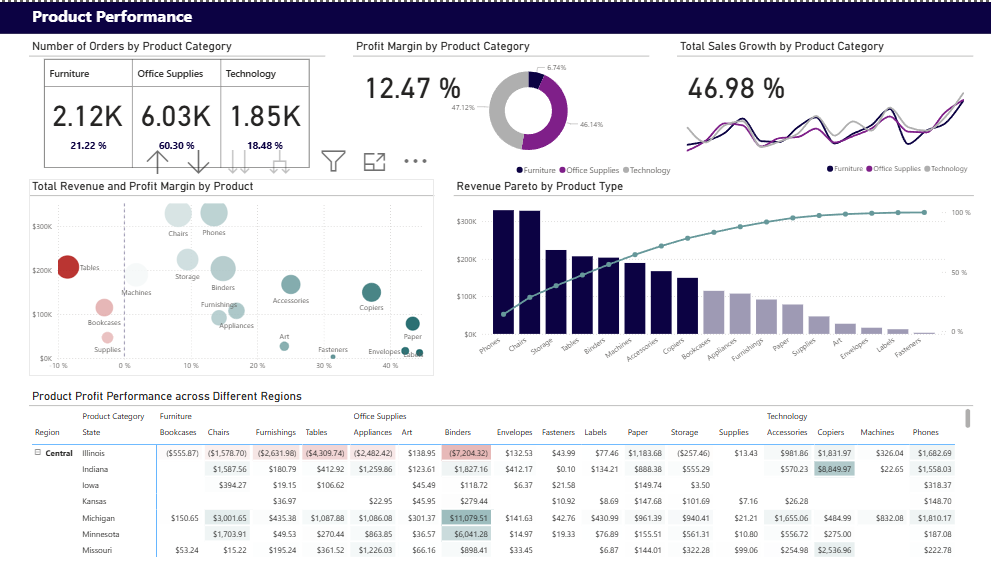

The dashboard page shown, as its layout file describes it:
{"tool":"powerbi","page":{"name":"Product Performance","canvas":[1655,951],"ordinal":3},"visuals":[{"type":"shape","box":[0,0,1655.5,52.7],"z":0},{"type":"scatterChart","title":"Total Revenue and Profit Margin by Product","fields":{"Category":["DimProduct.Category Hierarchy.Product Category","DimProduct.Category Hierarchy.Product Type"],"X":["MeasureTable.Profit Margin %"],"Size":["MeasureTable.Total Sales"],"Y":["MeasureTable.Total Revenue"]},"box":[50,295,676,328],"z":1000},{"type":"pivotTable","title":"Product Profit Performance across Different Regions","fields":{"Columns":["DimProduct.Category Hierarchy.Product Category","DimProduct.Category Hierarchy.Product Type"],"Values":["MeasureTable.Total Profit"],"Rows":["DimLocation.Location Hierarchy.Region","DimLocation.Location Hierarchy.State"]},"box":[50,646,1574,284],"z":2000},{"type":"lineClusteredColumnComboChart","title":"Revenue Pareto by Product Type","fields":{"Y":["MeasureTable.Total Revenue"],"Category":["DimProduct.Product Type"],"Y2":["MeasureTable.Cumulative Revenue %","MeasureTable.Cumulative Product %"]},"box":[757.5,295,867.5,327.5],"z":3000},{"type":"textbox","box":[50,0,350,52.9],"z":4000},{"type":"cardVisual","title":"Number of Orders by Product Category","fields":{"Data":["MeasureTable.Number of Orders"],"Rows":["DimProduct.Product Category"]},"box":[50,62,494,218],"z":5000},{"type":"cardVisual","title":"Total Sales Growth by Product Category","fields":{"Data":["MeasureTable.Total Sales Growth (%)"]},"box":[1130,62,494,218],"z":6000},{"type":"cardVisual","title":"Profit Margin by Product Category","fields":{"Data":["MeasureTable.Profit Margin %"]},"box":[590,62,494,234],"z":7000},{"type":"donutChart","fields":{"Category":["DimProduct.Product Category"],"Y":["MeasureTable.Profit Margin %"]},"box":[636,92,494,206],"z":8000},{"type":"lineChart","fields":{"Y":["MeasureTable.Total Sales by Category"],"Category":["DimCalendar.Date Hierarchy.Year","DimCalendar.Date Hierarchy.Quarter"],"Series":["DimProduct.Product Category"]},"box":[1130,120,494,176],"z":9000}]}

Visuals, with their boxes in screenshot pixels (x1, y1, x2, y2), scaled from the page's 1655x951 canvas onto the 991x571 screenshot:
shape: x1=0, y1=0, x2=990, y2=32
"Total Revenue and Profit Margin by Product" scatterChart: x1=30, y1=177, x2=435, y2=374
"Product Profit Performance across Different Regions" pivotTable: x1=30, y1=388, x2=972, y2=558
"Revenue Pareto by Product Type" lineClusteredColumnComboChart: x1=454, y1=177, x2=973, y2=374
textbox: x1=30, y1=0, x2=240, y2=32
"Number of Orders by Product Category" cardVisual: x1=30, y1=37, x2=326, y2=168
"Total Sales Growth by Product Category" cardVisual: x1=677, y1=37, x2=972, y2=168
"Profit Margin by Product Category" cardVisual: x1=353, y1=37, x2=649, y2=178
donutChart - DimProduct.Product Category x MeasureTable.Profit Margin %: x1=381, y1=55, x2=677, y2=179
lineChart - MeasureTable.Total Sales by Category x DimCalendar.Date Hierarchy.Year: x1=677, y1=72, x2=972, y2=178
